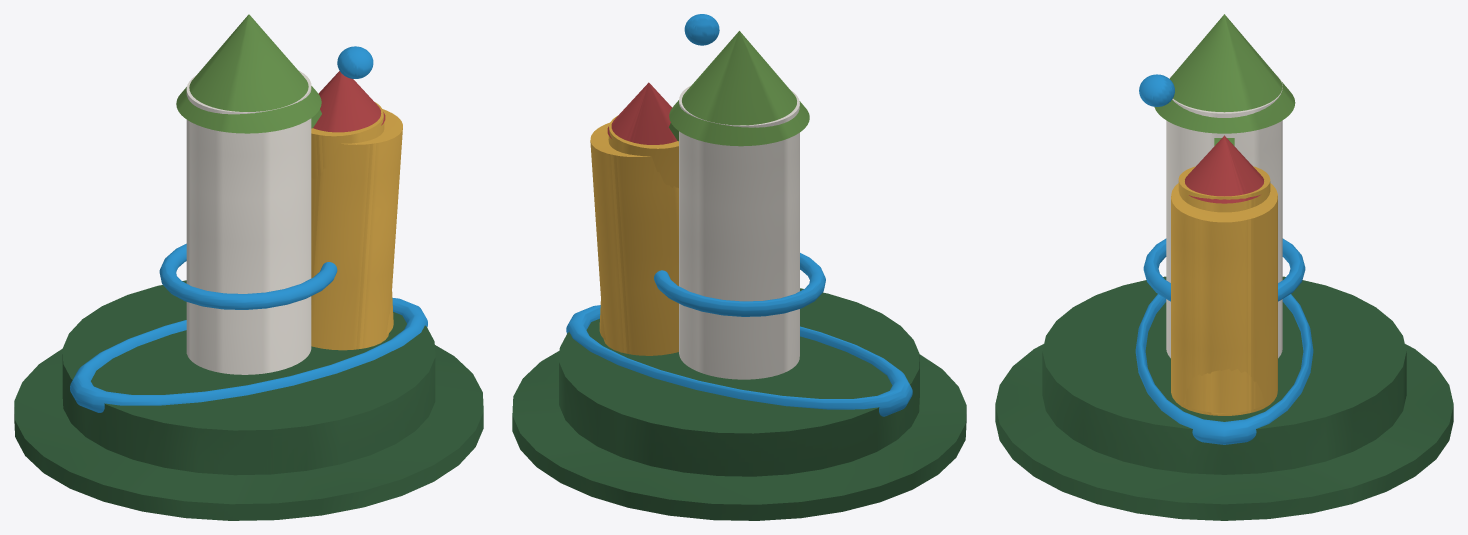
The model's file is 0542_岩石矿物图鉴_萤石.glb.
The picture shows the model from 3 angles, left to right: view 1: azimuth 30°, elevation 25°; view 2: azimuth 150°, elevation 25°; view 3: azimuth 270°, elevation 25°; orthographic projection. The views are drawn at different scales.
Visible parts, largest first — view 1: card_0542; view 2: card_0542; view 3: card_0542.
Part boxes in pixels (<box>): card_0542: <box>14,14,483,520</box>; card_0542: <box>512,14,966,520</box>; card_0542: <box>995,14,1453,520</box>.
Bounding box in the file's own units: 1.05 × 1 × 1.02.
